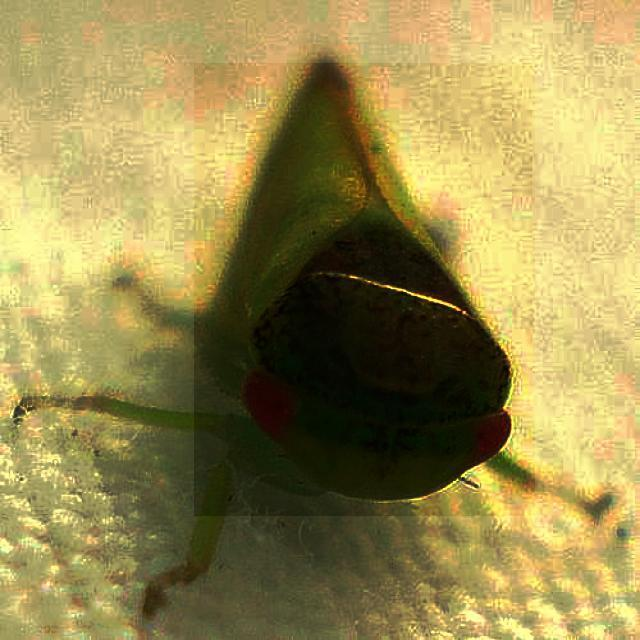green-leafhopper: (194, 63, 535, 516)
